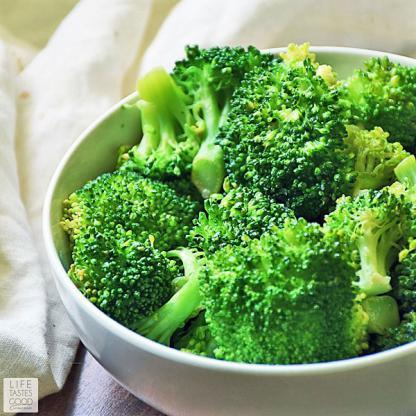broccoli: (60, 43, 416, 368)
